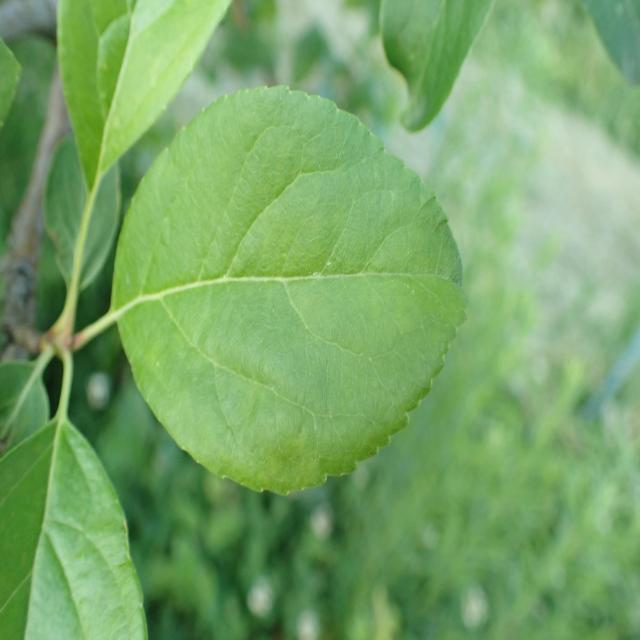healthy: (111, 84, 468, 495), (56, 0, 231, 193), (0, 416, 148, 640), (378, 0, 492, 132), (43, 133, 120, 293)
